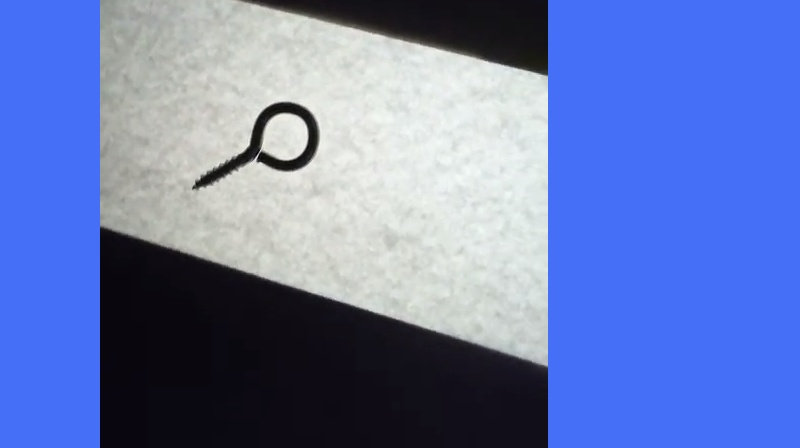O001: (186, 96, 326, 194)
